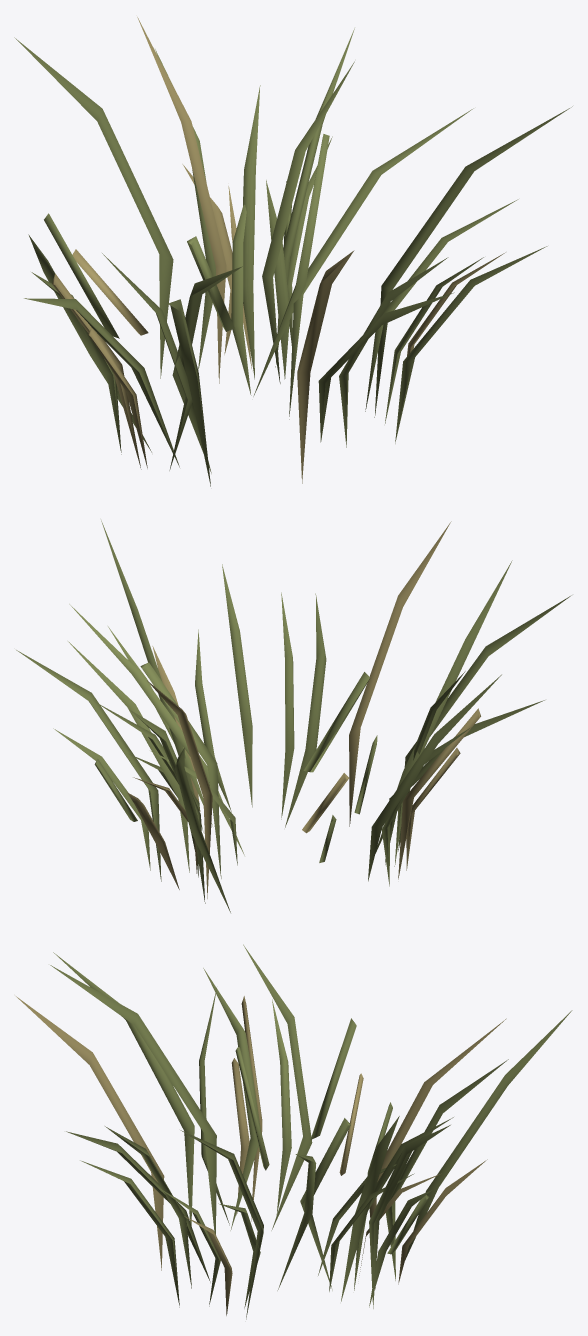
Rendered from Herbes_Dense_LOD1.fbx.
3 views of the same model, one above another, from view 1: azimuth 30°, elevation 25°; view 2: azimuth 150°, elevation 25°; view 3: azimuth 270°, elevation 25° (orthographic). The views are drawn at different scales.
Visible parts, largest first — view 1: Herbes_Dense_LOD1; view 2: Herbes_Dense_LOD1; view 3: Herbes_Dense_LOD1.
Boxes of the visible parts, box(x1,y1,x2,y2) form: Herbes_Dense_LOD1: box(14, 17, 572, 486); Herbes_Dense_LOD1: box(16, 520, 571, 912); Herbes_Dense_LOD1: box(16, 944, 572, 1319).
Bounding box in the file's own units: 84.29 × 47.44 × 88.85.
